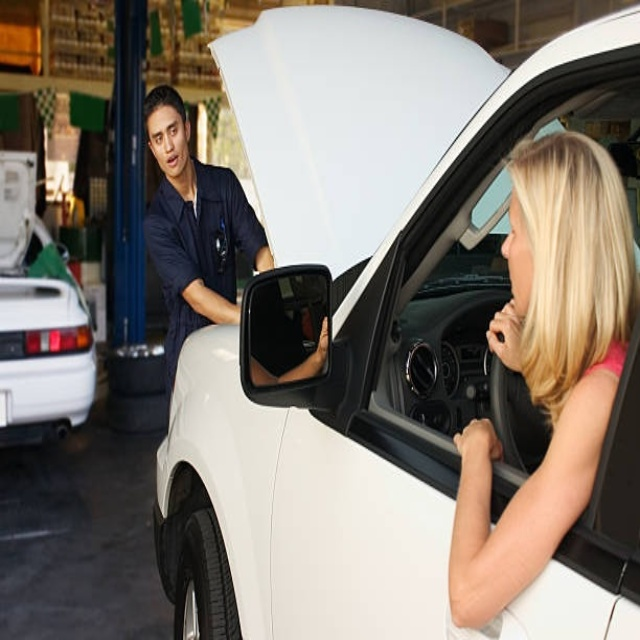Sin_gafas: (152, 124, 186, 147), (504, 213, 527, 246)
Sin_mascara: (505, 271, 534, 317), (160, 152, 188, 182)
